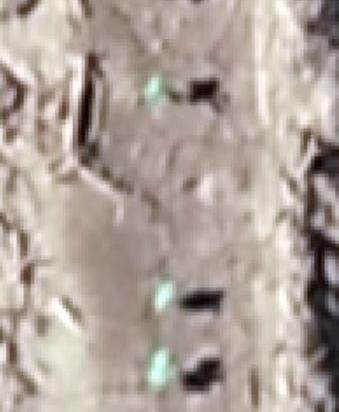cotton: (150, 351, 173, 390), (153, 281, 176, 312), (146, 73, 168, 101)
